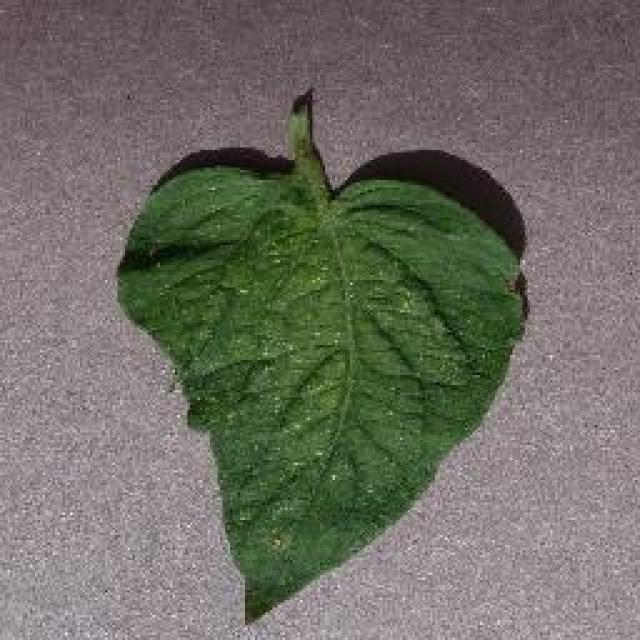Tomato___Spider_mites Two-spotted_spider_mite: (118, 92, 520, 620)
